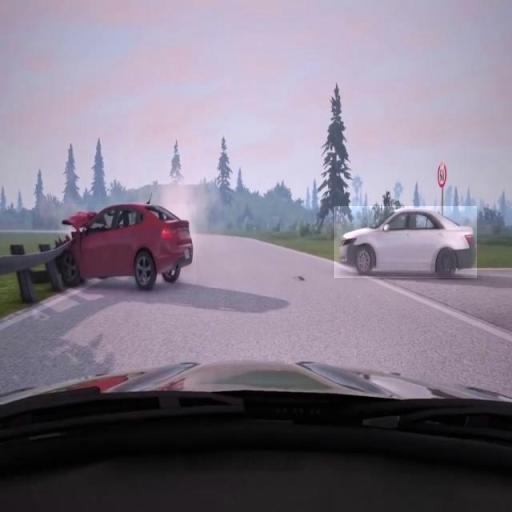小汽车: (334, 206, 477, 278)
小汽车撞物: (58, 204, 196, 292)
